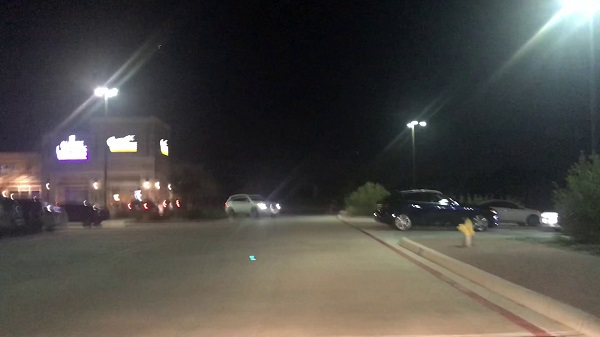car: (374, 187, 492, 232), (483, 195, 542, 227), (223, 192, 283, 219)
